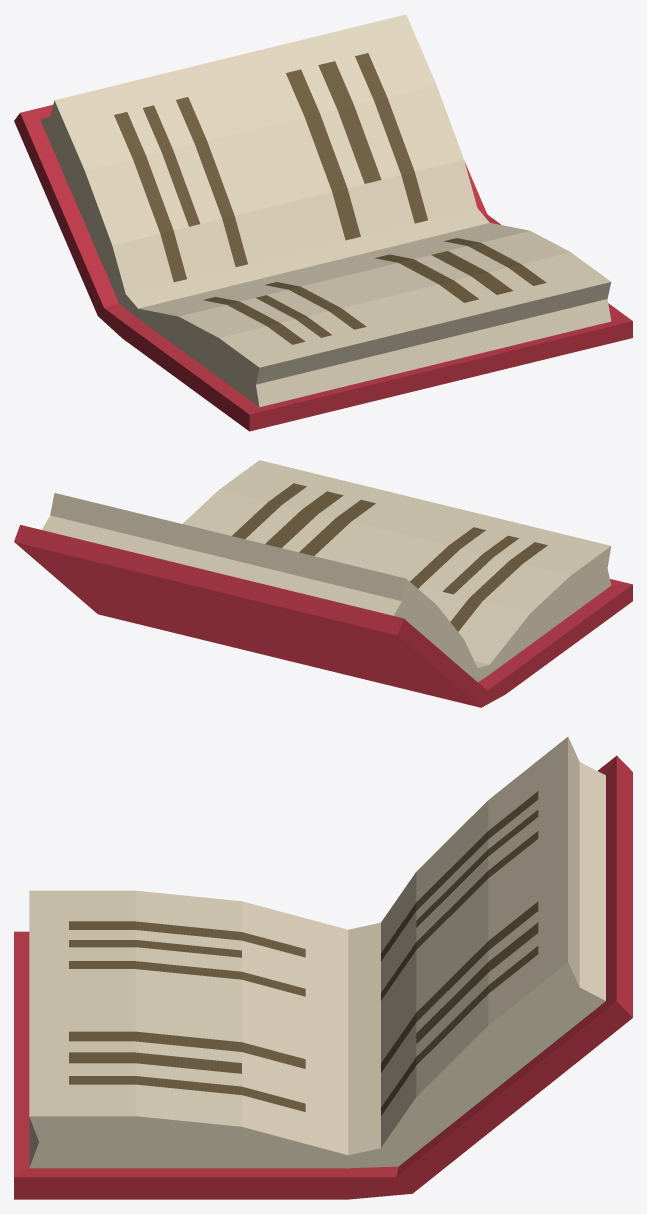
The model's file is Crypt_Book2.glb.
3 views of the same model, one above another, from view 1: azimuth 30°, elevation 25°; view 2: azimuth 150°, elevation 25°; view 3: azimuth 270°, elevation 25° (orthographic). The views are drawn at different scales.
Parts seen in each view (by area): view 1: Book2; view 2: Book2; view 3: Book2.
Part boxes in pixels (x1,y1,x2,y2): Book2: (14,14,632,431); Book2: (14,460,632,707); Book2: (14,736,632,1199).
Bounding box in the file's own units: 1.19 × 0.515 × 1.27.
